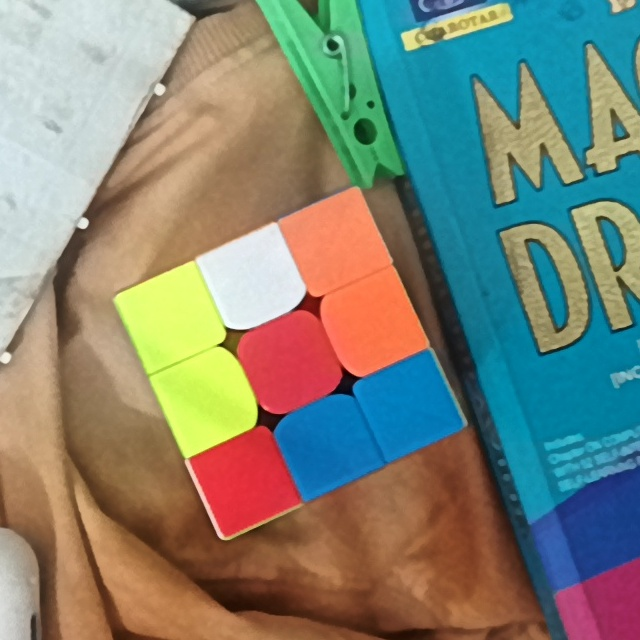tile: (254, 331, 323, 395), (209, 447, 276, 512), (300, 212, 369, 273), (339, 292, 403, 357), (172, 368, 238, 430), (138, 287, 202, 349), (219, 249, 284, 309), (381, 374, 442, 436), (294, 416, 356, 474)
